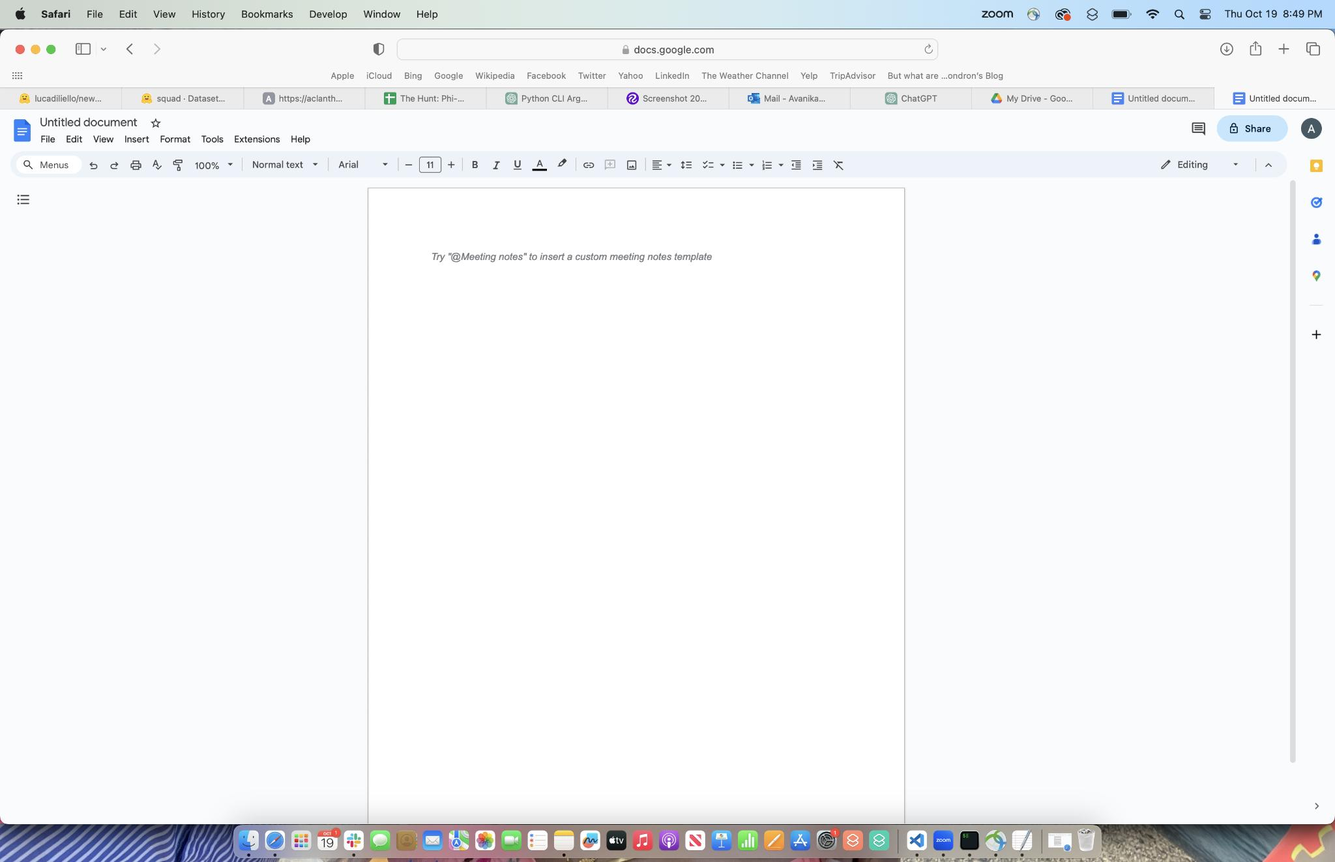webelement: (392, 206, 881, 805), (330, 153, 391, 175), (232, 131, 284, 149), (17, 157, 78, 172), (156, 131, 196, 149), (416, 153, 446, 176), (287, 130, 319, 150), (527, 155, 554, 178), (198, 131, 229, 150), (124, 129, 153, 149), (65, 127, 90, 148), (92, 130, 120, 148), (105, 155, 129, 175), (555, 155, 575, 179), (82, 155, 107, 174), (757, 156, 779, 175), (125, 156, 148, 174), (680, 156, 700, 175), (488, 155, 506, 176), (509, 153, 526, 175), (36, 131, 60, 146), (466, 155, 483, 172), (729, 157, 748, 172)
